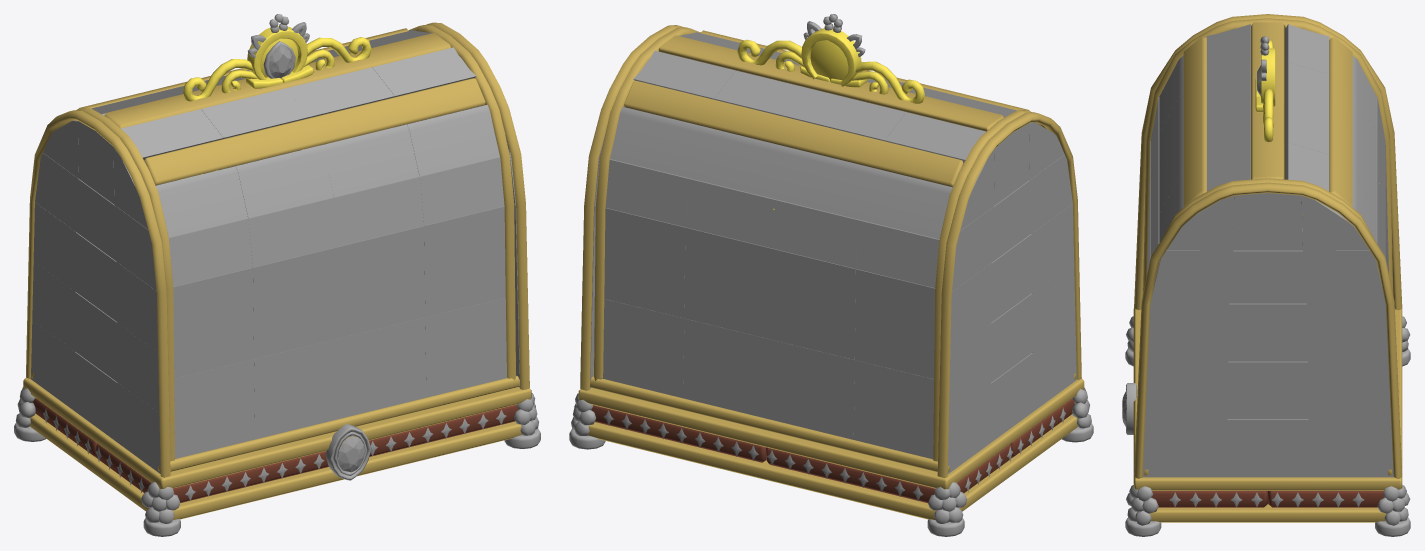
The model's file is JewelrySet.fbx.
3 renders of one model, left to right at view 1: azimuth 30°, elevation 25°; view 2: azimuth 150°, elevation 25°; view 3: azimuth 270°, elevation 25°, orthographic. The views are drawn at different scales.
Visible parts, largest first — view 1: S_Jewelry_Set44, S_Jewelry_Set30, S_Jewelry_Set36, D1_Jewelry_Set72, D1_Jewelry_Set65, D1_Jewelry_Set57, D1_Jewelry_Set70, S_Jewelry_Set38, D1_Jewelry_Set74, D1_Jewelry_Set61, D1_Jewelry_Set56, D1_Jewelry_Set66 (+37 smaller); view 2: S_Jewelry_Set44, S_Jewelry_Set39, S_Jewelry_Set36, D1_Jewelry_Set52, D1_Jewelry_Set9, S_Jewelry_Set38, D1_Jewelry_Set21, D1_Jewelry_Set25, D1_Jewelry_Set26, D1_Jewelry_Set27, D1_Jewelry_Set23, D1_Jewelry_Set7 (+34 smaller); view 3: S_Jewelry_Set44, S_Jewelry_Set36, D1_Jewelry_Set35, D1_Jewelry_Set31, D1_Jewelry_Set36, D1_Jewelry_Set39, D1_Jewelry_Set40, D1_Jewelry_Set29, D1_Jewelry_Set38, D1_Jewelry_Set34, D1_Jewelry_Set43, D1_Jewelry_Set30 (+37 smaller).
Part boxes in pixels (x1,y1,x2,y2): S_Jewelry_Set44: (26,22,529,477); S_Jewelry_Set30: (144,78,485,184); S_Jewelry_Set36: (23,378,531,489); D1_Jewelry_Set72: (338,226,425,337); D1_Jewelry_Set65: (253,247,339,358); D1_Jewelry_Set57: (424,206,505,317); D1_Jewelry_Set70: (173,268,253,378); S_Jewelry_Set38: (30,413,521,519); D1_Jewelry_Set74: (339,317,426,418); D1_Jewelry_Set61: (254,338,340,439); D1_Jewelry_Set56: (425,298,507,397); D1_Jewelry_Set66: (174,359,254,458); S_Jewelry_Set44: (580,25,1081,477); S_Jewelry_Set39: (624,81,963,186); S_Jewelry_Set36: (578,378,1084,489); D1_Jewelry_Set52: (684,227,770,338); D1_Jewelry_Set9: (769,248,855,359); S_Jewelry_Set38: (588,414,1077,520); D1_Jewelry_Set21: (604,208,685,318); D1_Jewelry_Set25: (855,269,935,379); D1_Jewelry_Set26: (683,318,769,418); D1_Jewelry_Set27: (768,339,854,439); D1_Jewelry_Set23: (603,299,684,398); D1_Jewelry_Set7: (853,360,934,459); S_Jewelry_Set44: (1134,14,1402,478); S_Jewelry_Set36: (1133,308,1402,490); D1_Jewelry_Set35: (1308,419,1393,477); D1_Jewelry_Set31: (1143,419,1227,477); D1_Jewelry_Set36: (1226,419,1309,477); D1_Jewelry_Set39: (1227,361,1308,419); D1_Jewelry_Set40: (1308,362,1390,419); D1_Jewelry_Set29: (1145,362,1228,419); D1_Jewelry_Set38: (1228,303,1307,361); D1_Jewelry_Set34: (1307,304,1388,361); D1_Jewelry_Set43: (1148,304,1229,361); D1_Jewelry_Set30: (1150,250,1233,303).
Size of the model in its own units: 646 by 670 by 427.
